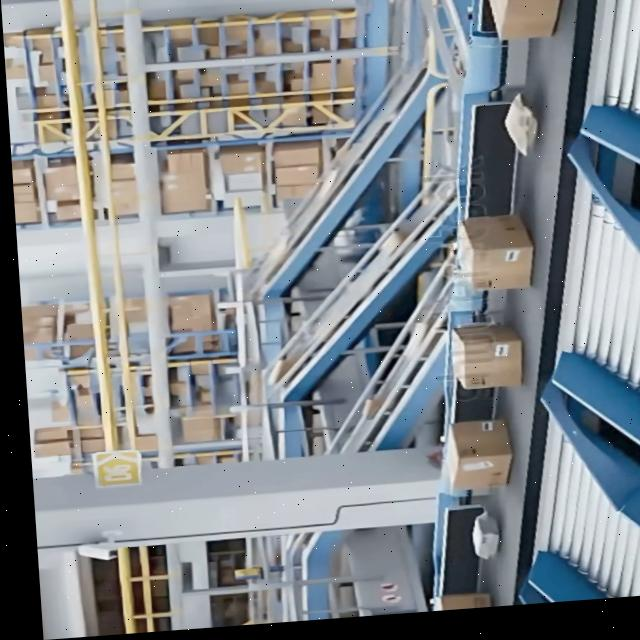product 1: (451, 213, 536, 294), (440, 418, 514, 493), (446, 322, 525, 392)
product 2: (499, 106, 543, 157)
